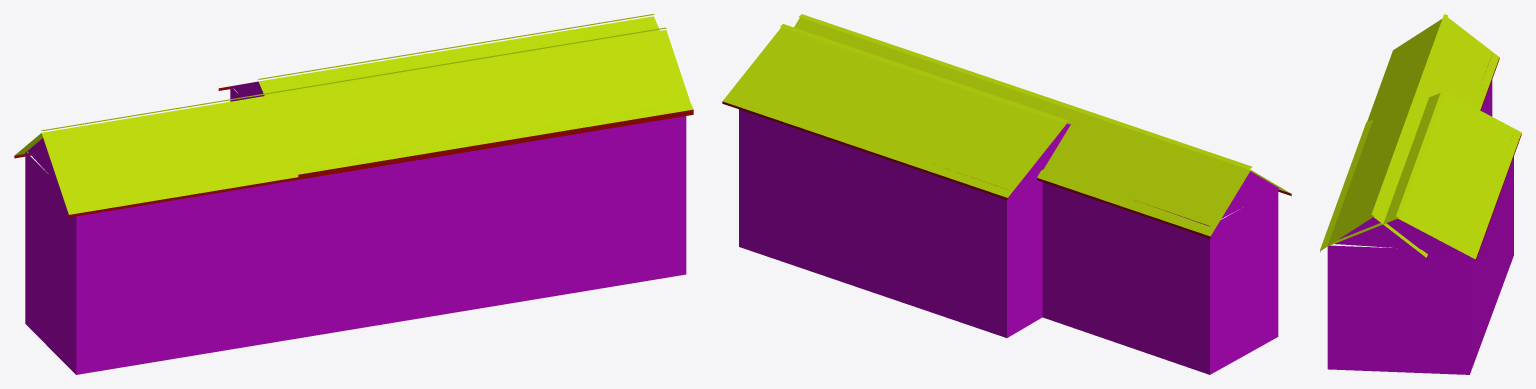
File: bgj_300.glb
The picture shows the model from 3 angles, left to right: view 1: azimuth 30°, elevation 25°; view 2: azimuth 150°, elevation 25°; view 3: azimuth 270°, elevation 25°; orthographic projection. The views are drawn at different scales.
Visible parts, largest first — view 1: bgj_300; view 2: bgj_300; view 3: bgj_300.
Part boxes in pixels (left/top/right/bottom): bgj_300: left=14, top=14, right=693, bottom=374; bgj_300: left=722, top=14, right=1291, bottom=374; bgj_300: left=1320, top=14, right=1521, bottom=374.
Size of the model in its own units: 27.72 by 9.72 by 11.2.
